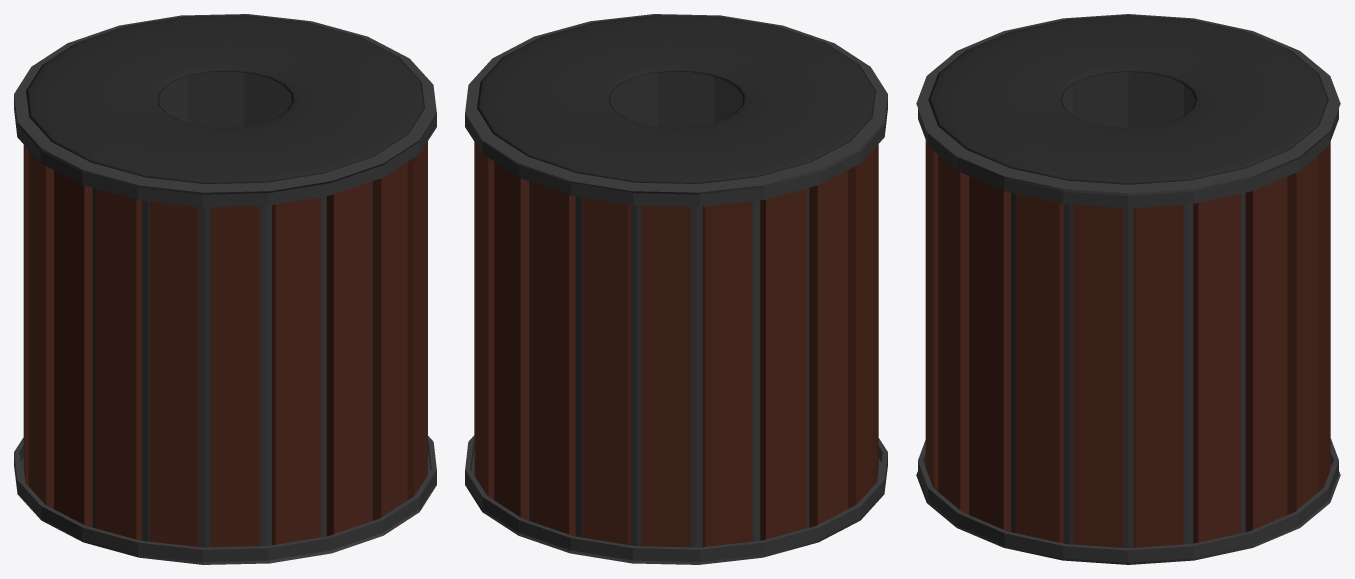
Rendered from Trash_Can.fbx.
3 views of the same model, side by side, from view 1: azimuth 30°, elevation 25°; view 2: azimuth 150°, elevation 25°; view 3: azimuth 270°, elevation 25° (orthographic).
Parts seen in each view (by area): view 1: Lid, Trash_Can, Slat13, Slat14, Slat15, Slat12, Slat16, Slat11, Slat17, Slat10, Slat18, Slat9 (+1 smaller); view 2: Lid, Trash_Can, Slat8, Slat7, Slat6, Slat9, Slat5, Slat10, Slat4, Slat11, Slat3, Slat12 (+1 smaller); view 3: Lid, Trash_Can, Slat1, Slat, Slat19, Slat2, Slat3, Slat18, Slat17, Slat4, Slat16, Slat5.
Boxes of the visible parts, <box> form: Lid: <box>26,15,424,183</box>; Trash_Can: <box>14,14,436,564</box>; Slat13: <box>149,201,199,546</box>; Slat14: <box>211,205,260,547</box>; Slat15: <box>272,197,320,545</box>; Slat12: <box>95,188,141,540</box>; Slat16: <box>326,182,370,536</box>; Slat11: <box>54,170,92,527</box>; Slat17: <box>372,162,407,520</box>; Slat10: <box>28,150,53,508</box>; Slat18: <box>407,144,426,499</box>; Slat9: <box>23,144,28,485</box>; Lid: <box>477,15,875,183</box>; Trash_Can: <box>465,14,887,564</box>; Slat8: <box>702,201,752,546</box>; Slat7: <box>641,205,690,547</box>; Slat6: <box>582,197,631,545</box>; Slat9: <box>760,188,806,540</box>; Slat5: <box>531,182,575,536</box>; Slat10: <box>809,170,847,527</box>; Slat4: <box>494,162,529,520</box>; Slat11: <box>848,150,873,508</box>; Slat3: <box>475,144,494,499</box>; Slat12: <box>873,144,878,485</box>; Lid: <box>928,15,1328,184</box>; Trash_Can: <box>916,14,1340,564</box>; Slat1: <box>1133,204,1183,547</box>; Slat: <box>1073,204,1123,547</box>; Slat19: <box>1015,194,1063,543</box>; Slat2: <box>1193,194,1241,543</box>; Slat3: <box>1245,176,1287,531</box>; Slat18: <box>969,176,1010,531</box>; Slat17: <box>938,155,969,514</box>; Slat4: <box>1287,155,1318,514</box>; Slat16: <box>925,140,938,491</box>; Slat5: <box>1319,142,1330,491</box>.
Size of the model in its own units: 2.35 by 2.32 by 2.34.
